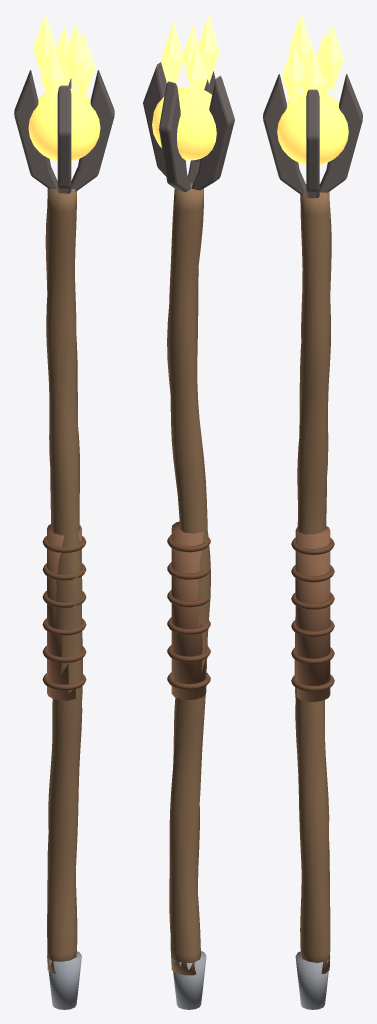
The model's file is cajado-fogo-490.glb.
The picture shows the model from 3 angles, left to right: view 1: azimuth 90°, elevation 25°; view 2: azimuth 150°, elevation 25°; view 3: azimuth 270°, elevation 25°; orthographic projection.
Parts seen in each view (by area): view 1: cajado-fogo; view 2: cajado-fogo; view 3: cajado-fogo.
Boxes of the visible parts, x1,y1,x2,y2 form: cajado-fogo: [14, 14, 114, 1009]; cajado-fogo: [143, 14, 234, 1009]; cajado-fogo: [263, 14, 362, 1009].
Size of the model in its own units: 0.1486 by 1.62 by 0.1486.
